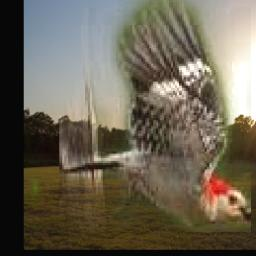Woodpecker: (59, 0, 251, 233)
